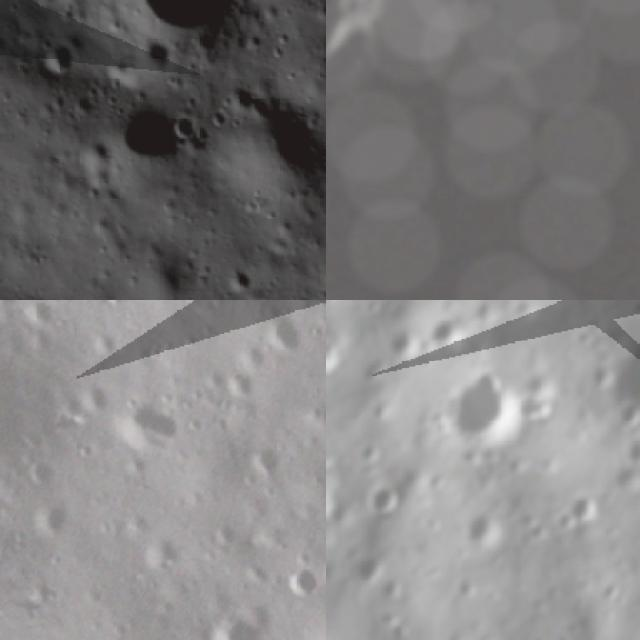crater: (201, 62, 326, 213), (89, 0, 258, 71), (0, 319, 62, 471), (432, 370, 534, 460), (100, 84, 188, 174), (108, 388, 190, 471), (248, 305, 320, 377), (131, 525, 194, 588), (192, 598, 283, 640), (23, 493, 84, 555), (69, 368, 130, 429), (238, 433, 296, 492), (278, 555, 326, 611), (606, 334, 640, 408), (454, 507, 507, 551), (375, 321, 428, 365), (13, 300, 71, 340), (350, 482, 398, 522), (418, 310, 466, 350), (558, 490, 605, 526), (0, 300, 47, 328), (148, 278, 205, 300), (609, 431, 640, 470), (0, 480, 15, 538)
